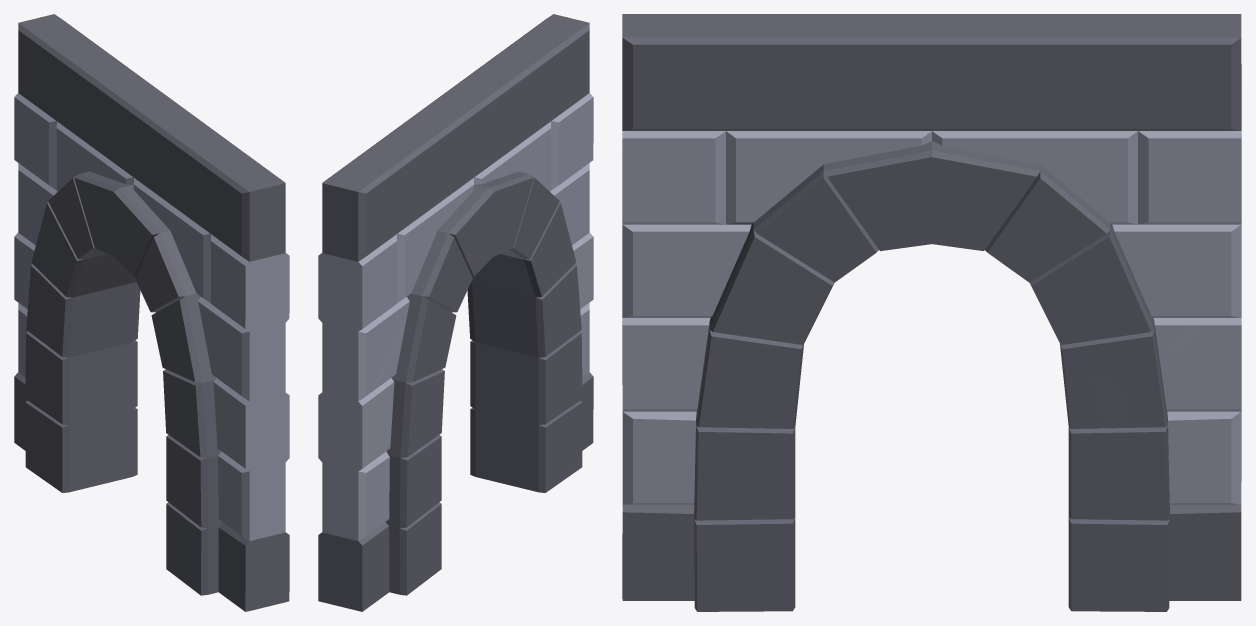
The model's file is parede_com_arco.fbx.
3 renders of one model, left to right at view 1: azimuth 30°, elevation 25°; view 2: azimuth 150°, elevation 25°; view 3: azimuth 270°, elevation 25°, orthographic. The views are drawn at different scales.
Visible parts, largest first — view 1: parede_com_arco.003; view 2: parede_com_arco.003; view 3: parede_com_arco.003.
Boxes of the visible parts, x1=… form: parede_com_arco.003: x1=14, y1=14, x2=289, y2=611; parede_com_arco.003: x1=318, y1=14, x2=593, y2=611; parede_com_arco.003: x1=622, y1=14, x2=1241, y2=611.
Bounding box in the file's own units: 38.61 × 200 × 200.
